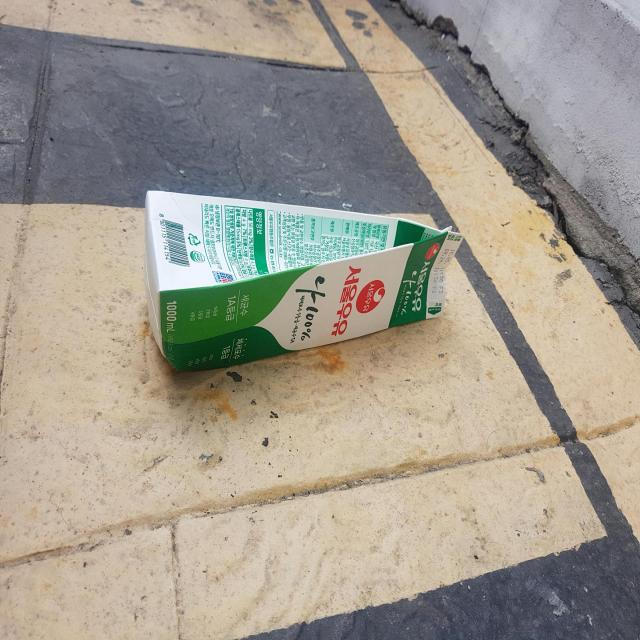paperpack: (145, 191, 462, 370)
